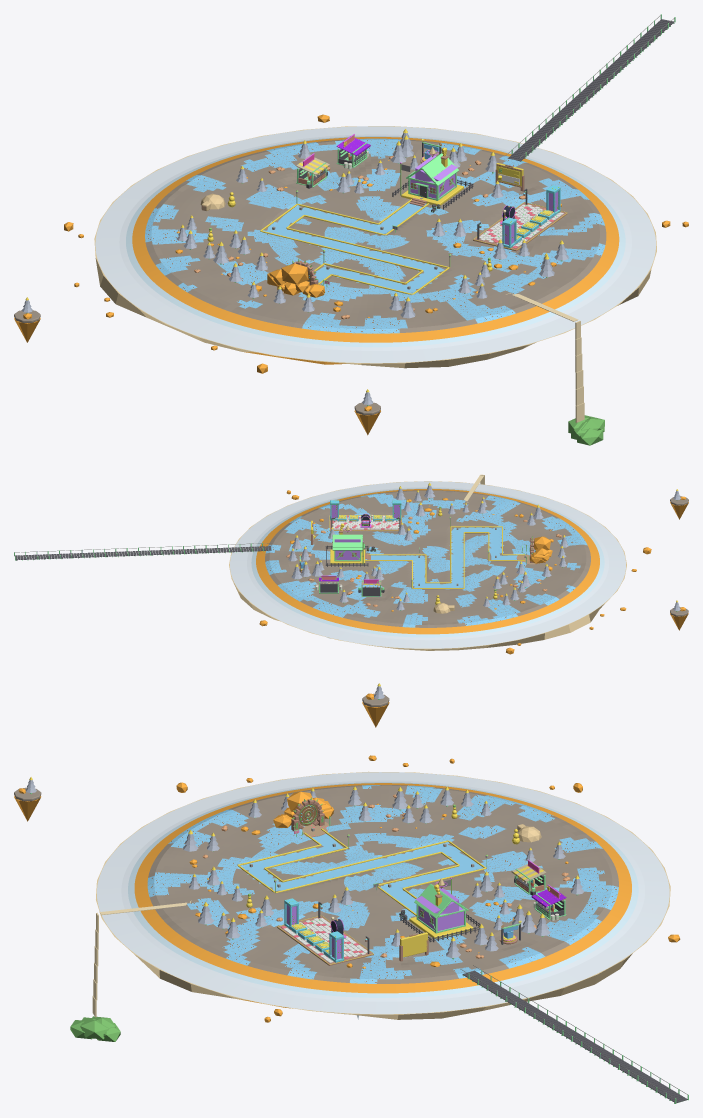
Rendered from Isla3_Nieve.obj.
3 views of the same model, one above another, from view 1: azimuth 30°, elevation 25°; view 2: azimuth 150°, elevation 25°; view 3: azimuth 270°, elevation 25° (orthographic). The views are drawn at different scales.
Parts seen in each view (by area): view 1: Isla3_Nieve_Terreno, Isla3_Nieve_Base_Flotante, Isla3_Nieve_Casa, Isla3_Nieve_Palanca_Zona, Isla3_Nieve_Portal, Isla3_Nieve_Detalles_7, Isla3_Nieve_Detalles_6, Isla3_Nieve_Equipamientos_Puesto, Isla3_Nieve_Tienda_Puesto; view 2: Isla3_Nieve_Terreno, Isla3_Nieve_Base_Flotante, Isla3_Nieve_Casa, Isla3_Nieve_Palanca_Zona, Isla3_Nieve_Portal, Isla3_Nieve_Equipamientos_Puesto, Isla3_Nieve_Tienda_Puesto, Isla3_Nieve_Detalles_10, Isla3_Nieve_Detalles_9; view 3: Isla3_Nieve_Terreno, Isla3_Nieve_Base_Flotante, Isla3_Nieve_Casa, Isla3_Nieve_Palanca_Zona, Isla3_Nieve_Portal, Isla3_Nieve_Detalles_6, Isla3_Nieve_Detalles_7, Isla3_Nieve_Equipamientos_Puesto, Isla3_Nieve_Tienda_Puesto, Isla3_Nieve_Detalles_9, Isla3_Nieve_Detalles_10.
Boxes of the visible parts, x1,y1,x2,y2 form: Isla3_Nieve_Terreno: (95,126,655,363); Isla3_Nieve_Base_Flotante: (94,126,656,368); Isla3_Nieve_Casa: (392,147,473,209); Isla3_Nieve_Palanca_Zona: (473,185,567,251); Isla3_Nieve_Portal: (267,258,325,297); Isla3_Nieve_Detalles_7: (571,386,604,445); Isla3_Nieve_Detalles_6: (512,294,589,433); Isla3_Nieve_Equipamientos_Puesto: (336,134,370,169); Isla3_Nieve_Tienda_Puesto: (296,153,329,188); Isla3_Nieve_Terreno: (230,481,625,648); Isla3_Nieve_Base_Flotante: (229,481,626,650); Isla3_Nieve_Casa: (325,523,370,566); Isla3_Nieve_Palanca_Zona: (329,500,401,530); Isla3_Nieve_Portal: (516,536,552,564); Isla3_Nieve_Equipamientos_Puesto: (315,575,342,593); Isla3_Nieve_Tienda_Puesto: (358,579,384,596); Isla3_Nieve_Detalles_10: (670,489,688,519); Isla3_Nieve_Detalles_9: (670,600,688,630); Isla3_Nieve_Terreno: (97,772,669,1014); Isla3_Nieve_Base_Flotante: (96,771,670,1019); Isla3_Nieve_Casa: (400,877,480,942); Isla3_Nieve_Palanca_Zona: (277,898,373,965); Isla3_Nieve_Portal: (273,791,333,837); Isla3_Nieve_Detalles_6: (92,902,186,1041); Isla3_Nieve_Detalles_7: (70,979,108,1039); Isla3_Nieve_Equipamientos_Puesto: (531,884,566,920); Isla3_Nieve_Tienda_Puesto: (511,859,546,895); Isla3_Nieve_Detalles_9: (362,683,389,727); Isla3_Nieve_Detalles_10: (14,777,41,821).
Size of the model in its own units: 233 by 45.35 by 165.
1 material, 1 textured.
